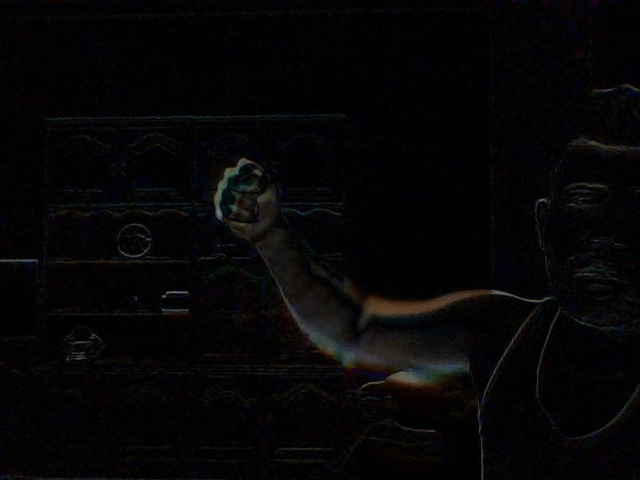hand_fi: (209, 153, 280, 242)
